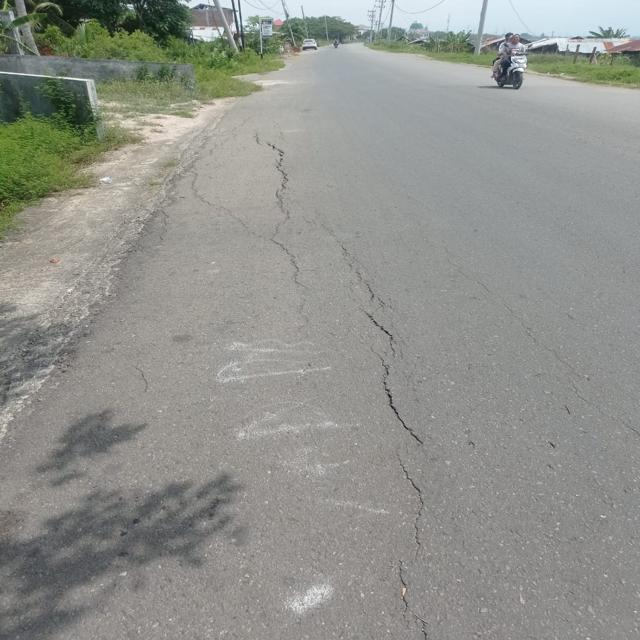Memanjang: (330, 232, 437, 461), (260, 129, 300, 242)
